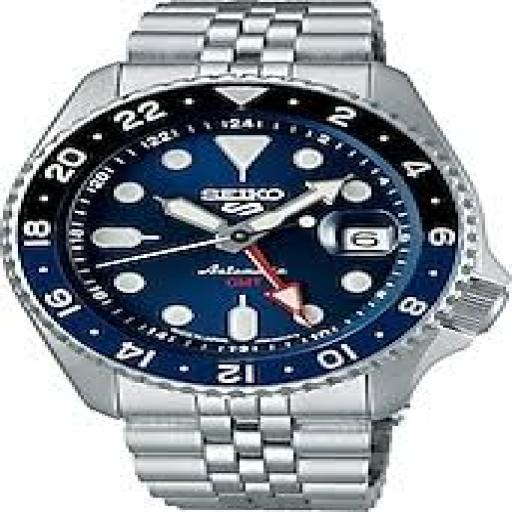KolSaati: (0, 0, 512, 508)
